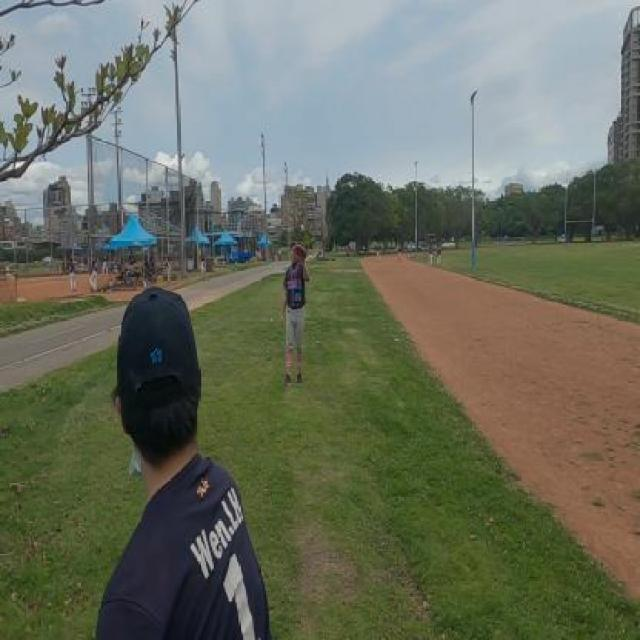baseball: (300, 224, 305, 233)
